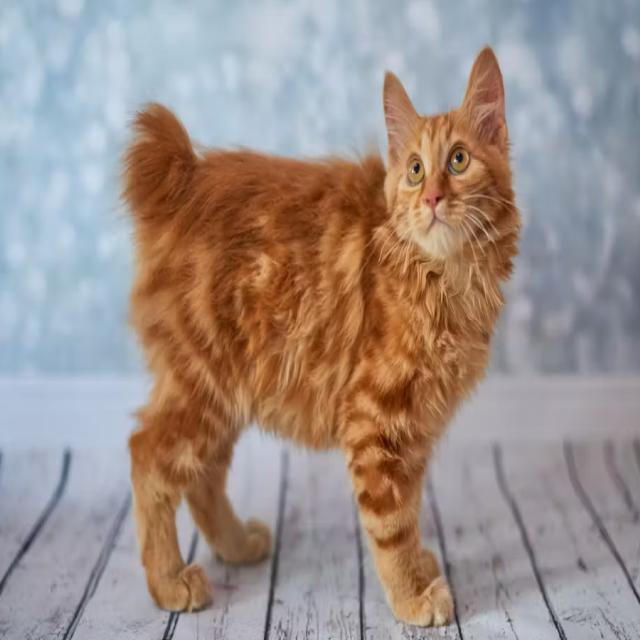American Bobtail: (118, 39, 525, 633)
